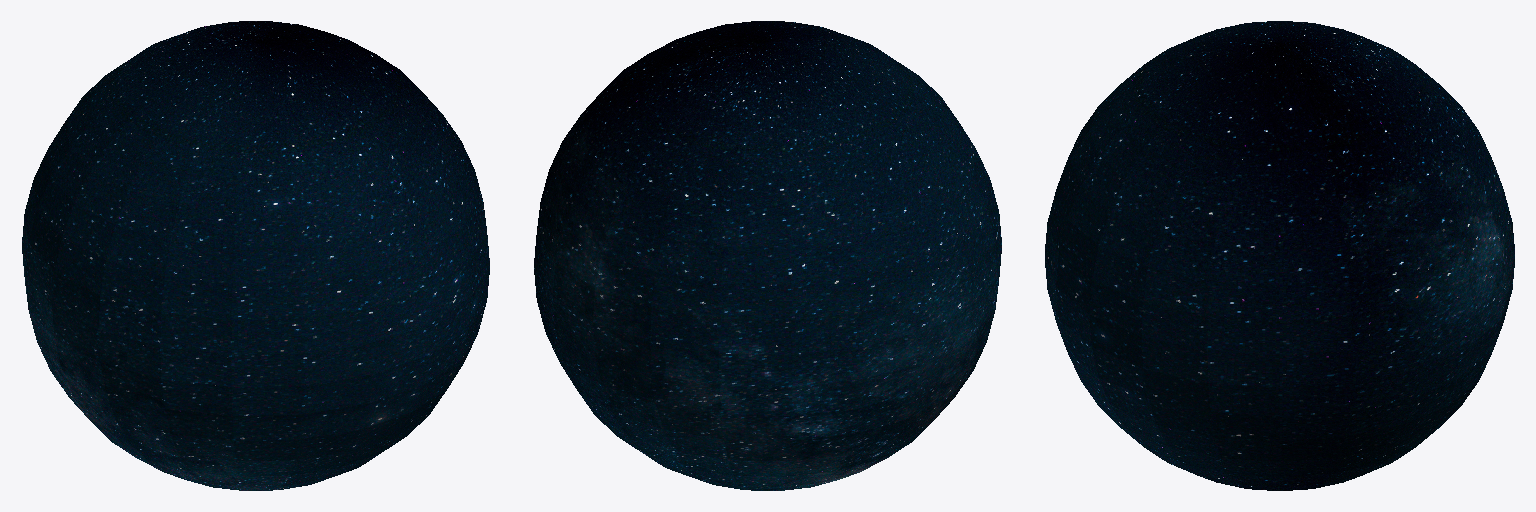
The picture shows the model from 3 angles: view 1: azimuth 30°, elevation 25°; view 2: azimuth 150°, elevation 25°; view 3: azimuth 270°, elevation 25°; orthographic projection.
Size of the model in its own units: 40.08 by 40.08 by 40.08.
Materials: 1 (1 with a texture image).